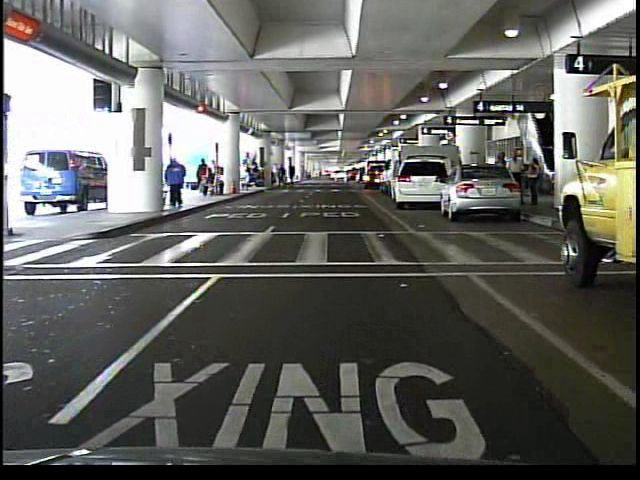person: (163, 153, 190, 208)
